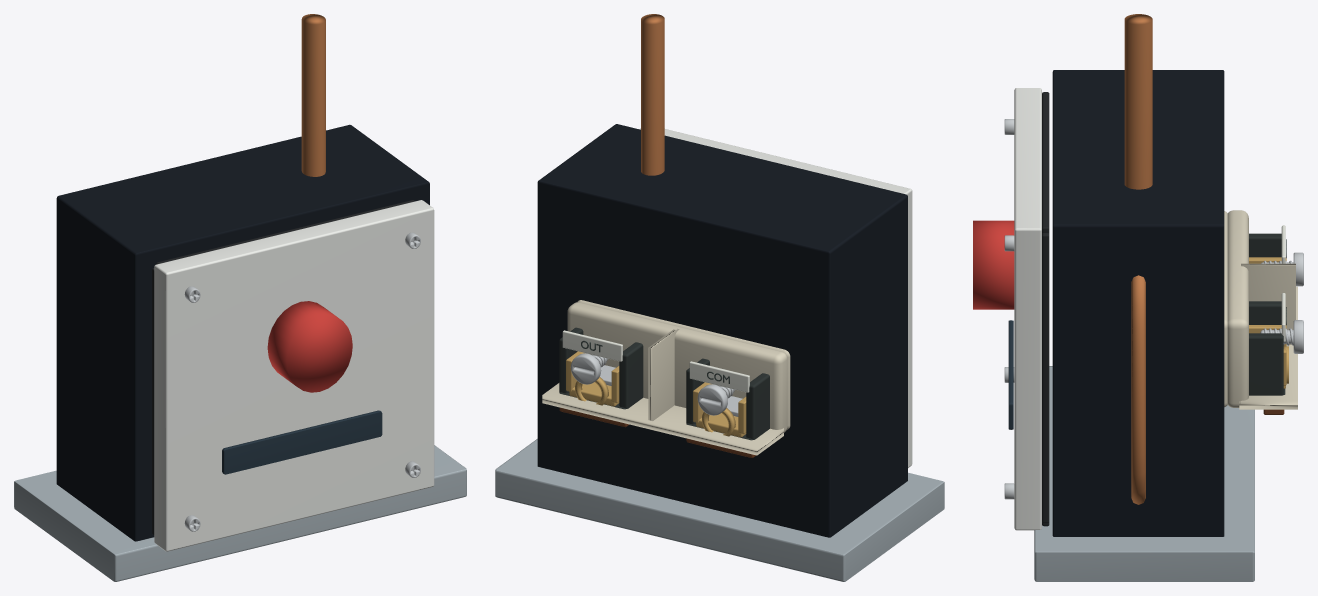
File: cutout_default.glb
3 renders of one model, left to right at view 1: azimuth 30°, elevation 25°; view 2: azimuth 150°, elevation 25°; view 3: azimuth 270°, elevation 25°, orthographic. The views are drawn at different scales.
Parts seen in each view (by area): view 1: part:cover, part:body, part:body.001, part:body.002 · Original db0da9ae, detail:enclosure-gasket-and-fixings · Detail rubber gasket, detail:enclosure-gasket-and-fixings · Detail zinc plated fix; view 2: part:body, part:terminals · Original 5a609f27, part:body.002 · Original db0da9ae, part:cover, detail:terminal-clamp:OUT · Detail moulded engineering polym, detail:terminal-clamp:COM · Detail moulded engineering polym, detail:terminal-clamp:COM · Detail machined brass, detail:terminal-clamp:OUT · Detail machined brass, Moulded terminal legend pad.001, Moulded terminal legend pad, detail:terminal-clamp:COM · Detail zinc plated fixing, detail:terminal-clamp:OUT · Detail zinc plated fixing; view 3: part:body, part:cover, part:body.002 · Original db0da9ae, part:terminals · Original 5a609f27, part:body.001, detail:enclosure-gasket-and-fixings · Detail rubber gasket, detail:terminal-clamp:OUT · Detail moulded engineering polym, detail:terminal-clamp:COM · Detail moulded engineering polym, detail:enclosure-gasket-and-fixings · Detail zinc plated fix, detail:terminal-clamp:OUT · Detail zinc plated fixing, detail:terminal-clamp:OUT · Detail machined brass.
Part boxes in pixels (box(x1,y1,x2,y2)): part:cover: box(154, 200, 434, 551); part:body: box(14, 124, 466, 581); part:body.001: box(267, 301, 352, 392); part:body.002 · Original db0da9ae: box(301, 14, 325, 176); detail:enclosure-gasket-and-fixings · Detail rubber gasket: box(152, 200, 414, 535); detail:enclosure-gasket-and-fixings · Detail zinc plated fix: box(184, 232, 420, 531); part:body: box(495, 124, 944, 581); part:terminals · Original 5a609f27: box(542, 300, 790, 455); part:body.002 · Original db0da9ae: box(641, 14, 664, 175); part:cover: box(640, 128, 912, 467); detail:terminal-clamp:OUT · Detail moulded engineering polym: box(559, 327, 643, 409); detail:terminal-clamp:COM · Detail moulded engineering polym: box(686, 358, 769, 440); detail:terminal-clamp:COM · Detail machined brass: box(693, 382, 746, 437); detail:terminal-clamp:OUT · Detail machined brass: box(566, 351, 619, 406); Moulded terminal legend pad.001: box(562, 330, 622, 361); Moulded terminal legend pad: box(689, 361, 749, 392); detail:terminal-clamp:COM · Detail zinc plated fixing: box(697, 384, 742, 416); detail:terminal-clamp:OUT · Detail zinc plated fixing: box(570, 353, 615, 385); part:body: box(1034, 70, 1254, 581); part:cover: box(1008, 88, 1041, 530); part:body.002 · Original db0da9ae: box(1124, 14, 1152, 504); part:terminals · Original 5a609f27: box(1224, 210, 1297, 409); part:body.001: box(973, 220, 1014, 309); detail:enclosure-gasket-and-fixings · Detail rubber gasket: box(1042, 92, 1049, 526); detail:terminal-clamp:OUT · Detail moulded engineering polym: box(1249, 301, 1285, 395); detail:terminal-clamp:COM · Detail moulded engineering polym: box(1249, 233, 1281, 257); detail:enclosure-gasket-and-fixings · Detail zinc plated fix: box(1004, 119, 1014, 499); detail:terminal-clamp:OUT · Detail zinc plated fixing: box(1260, 320, 1303, 353); detail:terminal-clamp:OUT · Detail machined brass: box(1249, 325, 1288, 388).
Bounding box in the file's own units: 0.6849 × 0.8589 × 0.5079.
